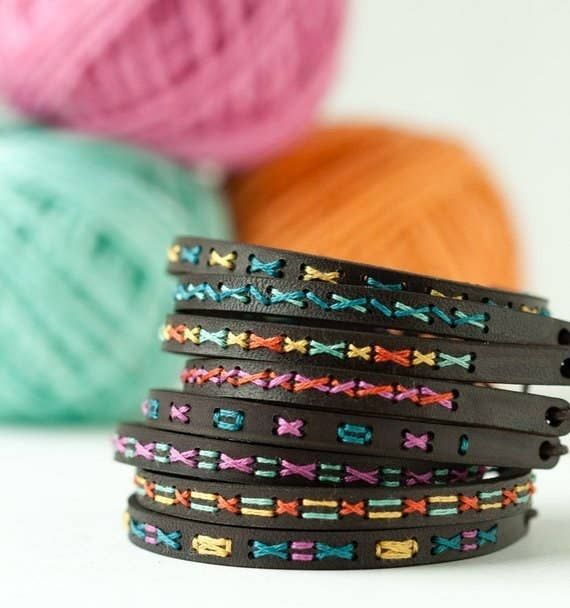cuero: (113, 233, 570, 570)
